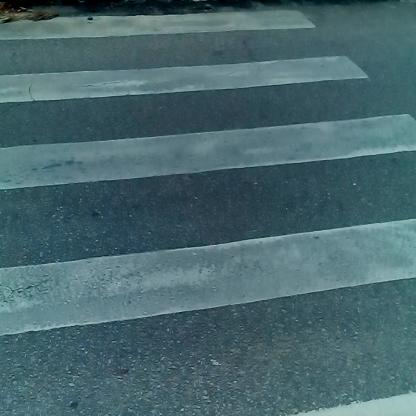crosswalk: (1, 11, 411, 416)
